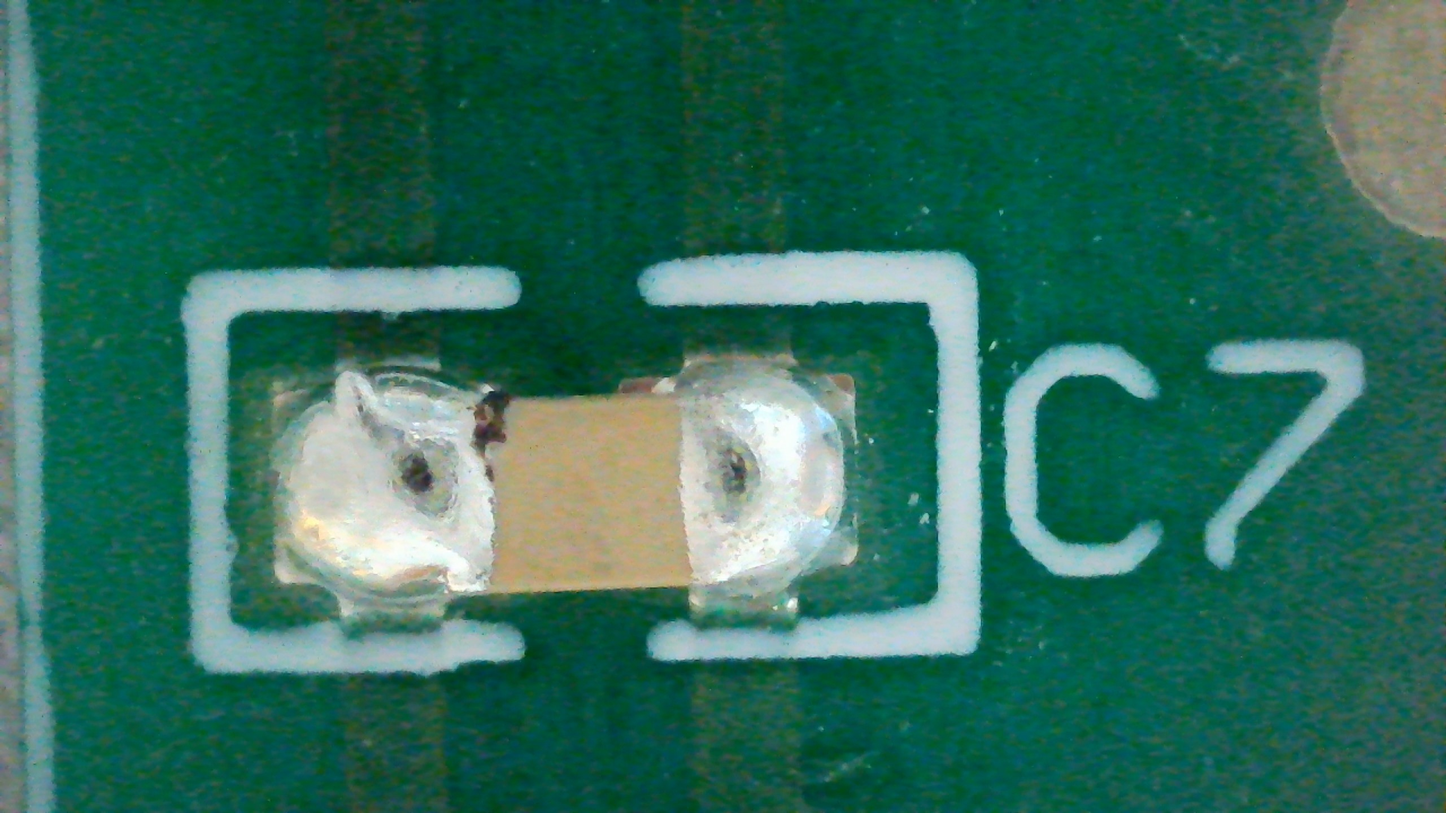OK: (277, 354, 857, 625)
